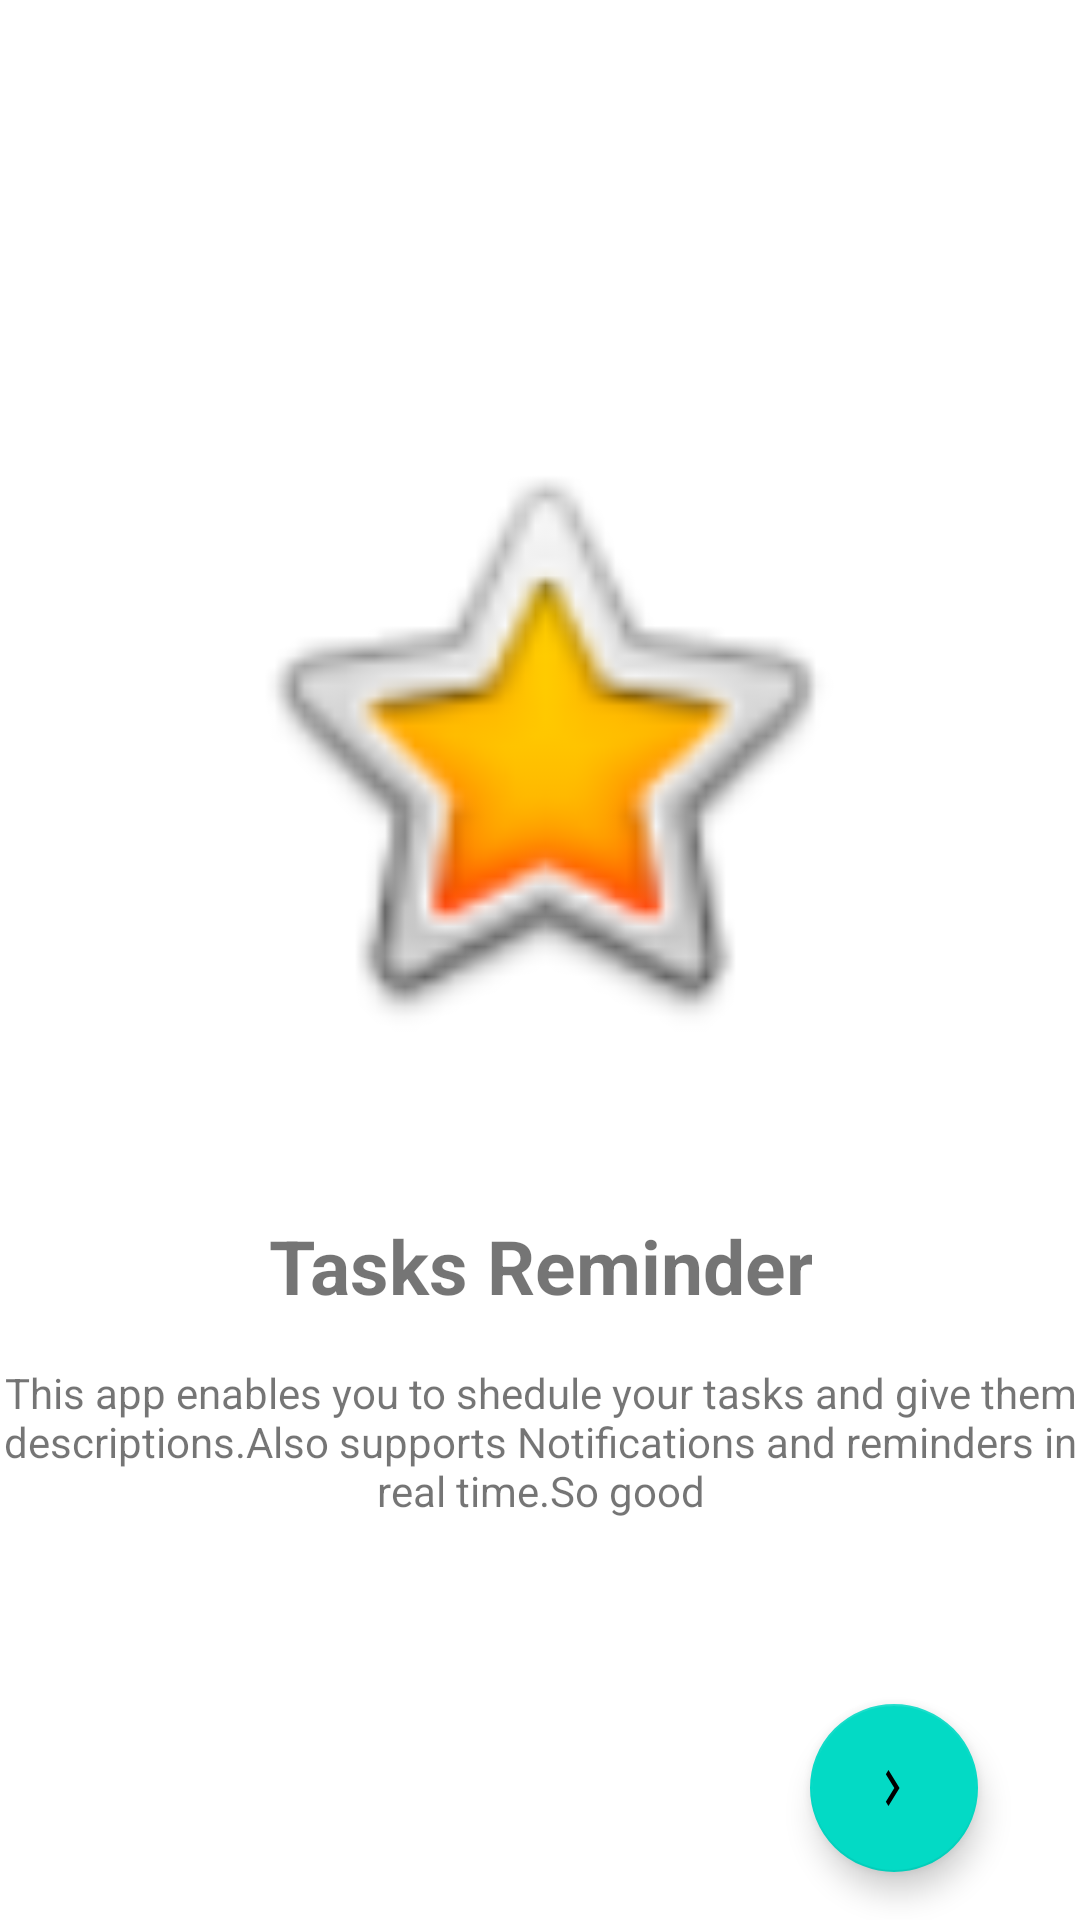

Icons on this 1080x1920 Android screen, each with its box as (x1, y1, x2, y2):
next: (810, 1704, 978, 1872)
